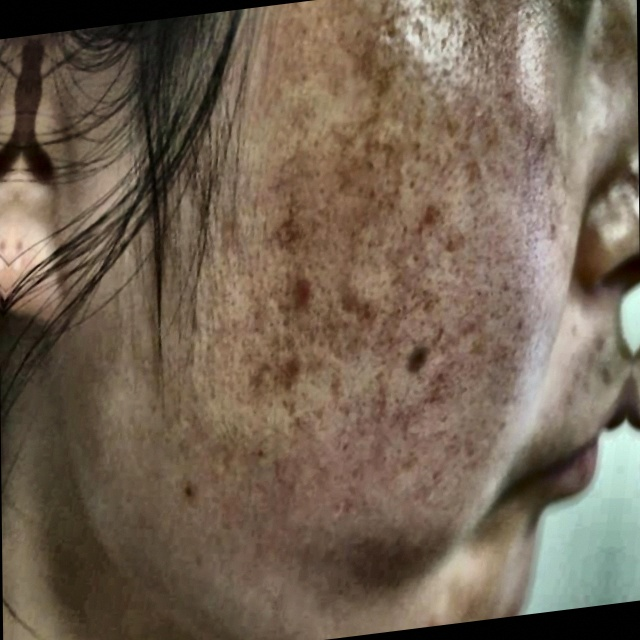comedone: (278, 260, 325, 332)
